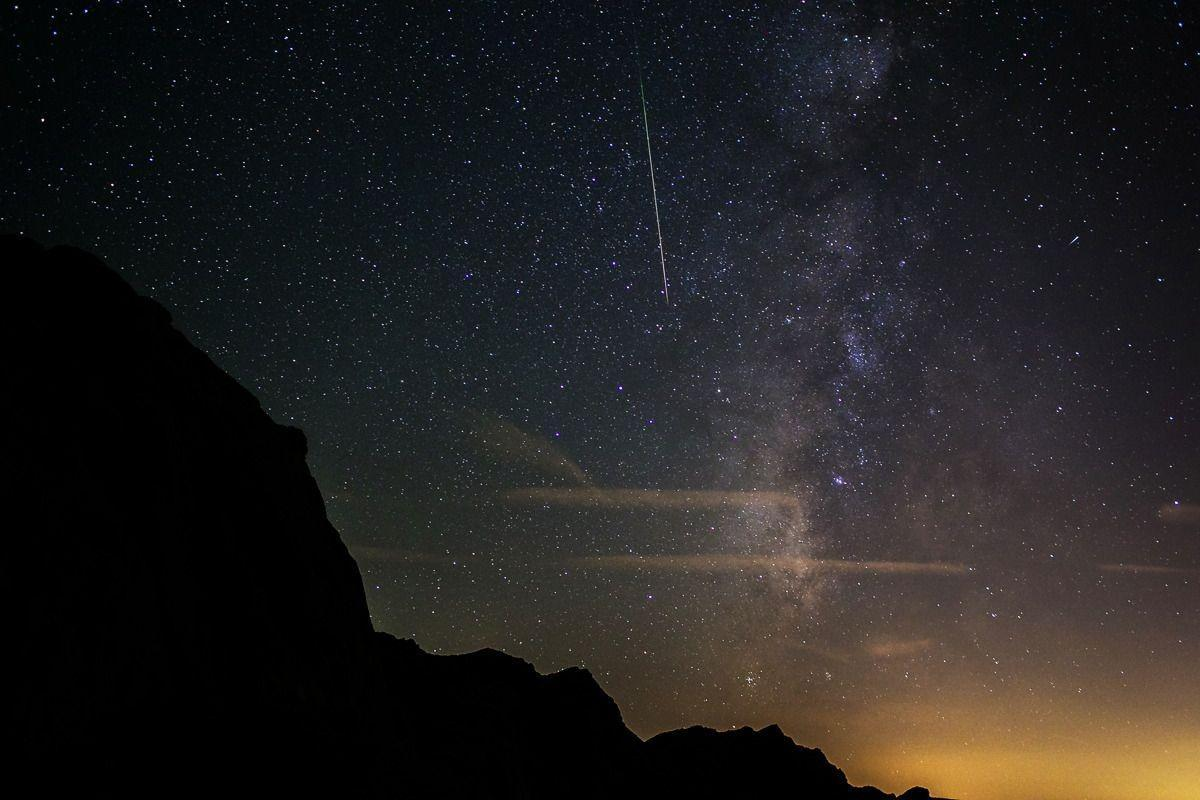meteorite: (608, 52, 684, 316), (1054, 232, 1091, 249)
